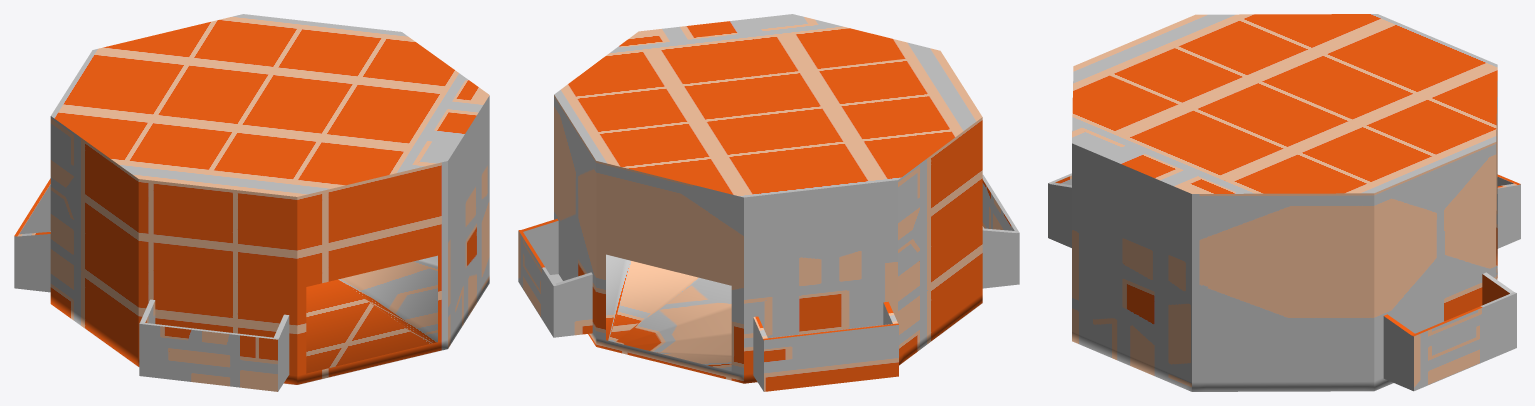
Rendered from 3_balkonlu_kat_camlı.fbx.
3 renders of one model, left to right at view 1: azimuth 30°, elevation 25°; view 2: azimuth 150°, elevation 25°; view 3: azimuth 270°, elevation 25°, orthographic. The views are drawn at different scales.
Parts seen in each view (by area): view 1: Cube.003; view 2: Cube.003; view 3: Cube.003.
Boxes of the visible parts, x1=… form: Cube.003: x1=14, y1=14, x2=489, y2=391; Cube.003: x1=518, y1=14, x2=1019, y2=391; Cube.003: x1=1048, y1=14, x2=1520, y2=391.
Bounding box in the file's own units: 218 × 102 × 220.
